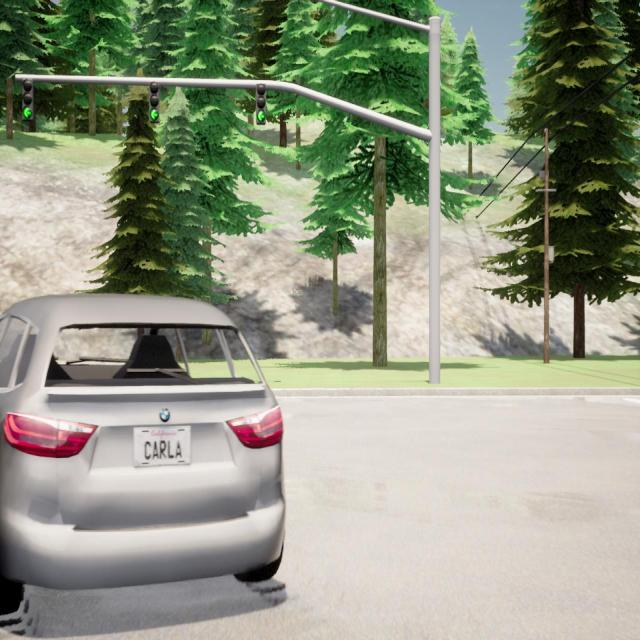Vehicle: (1, 295, 286, 613)
traffic_light: (20, 76, 34, 124), (148, 78, 160, 122), (256, 82, 266, 126)
